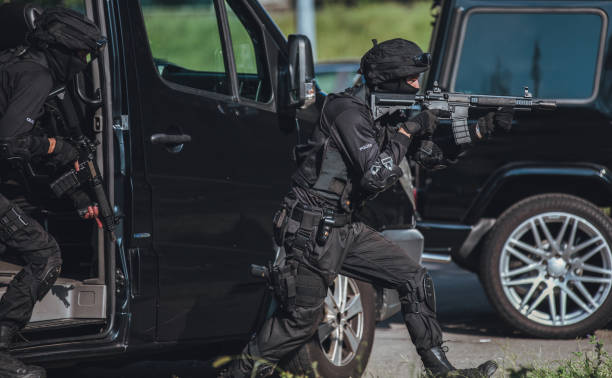gun: (44, 83, 117, 245), (371, 89, 557, 147)
